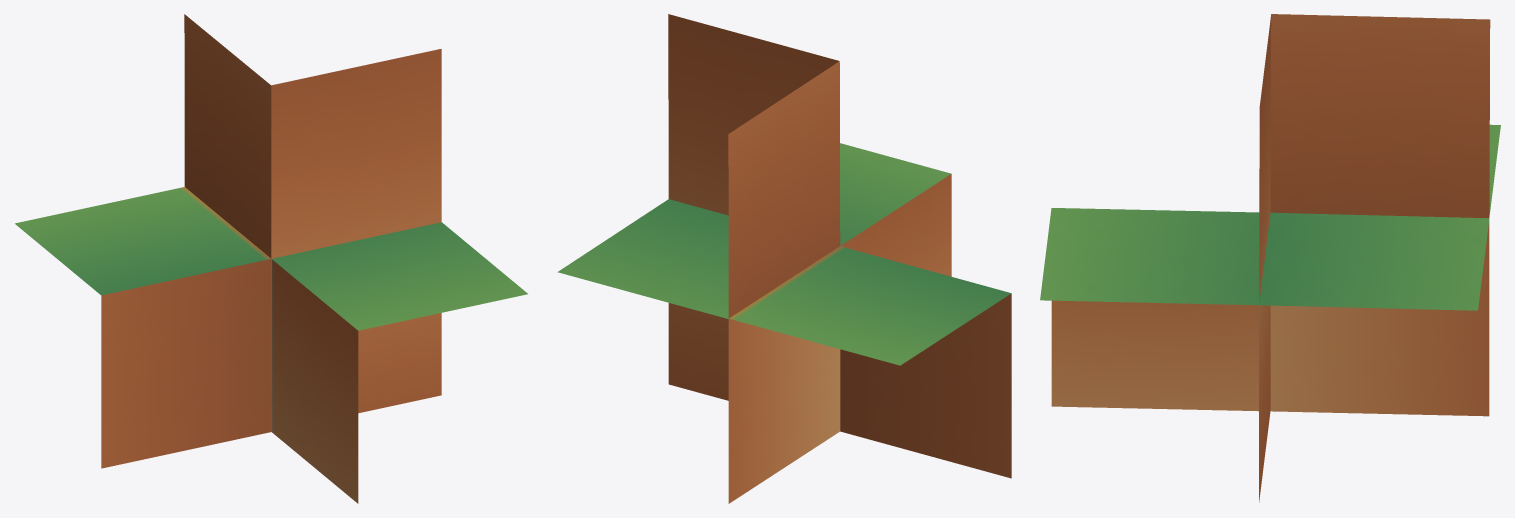
3 renders of one model, left to right at view 1: azimuth 30°, elevation 25°; view 2: azimuth 150°, elevation 25°; view 3: azimuth 270°, elevation 25°, orthographic. The views are drawn at different scales.
Parts seen in each view (by area): view 1: 00011010; view 2: 00011010; view 3: 00011010.
Boxes of the visible parts, x1,y1,x2,y2 form: 00011010: (15, 14, 527, 503); 00011010: (557, 14, 1011, 503); 00011010: (1040, 14, 1500, 502).
Bounding box in the file's own units: 1.02 × 1 × 1.05.
1 material, 1 textured.
